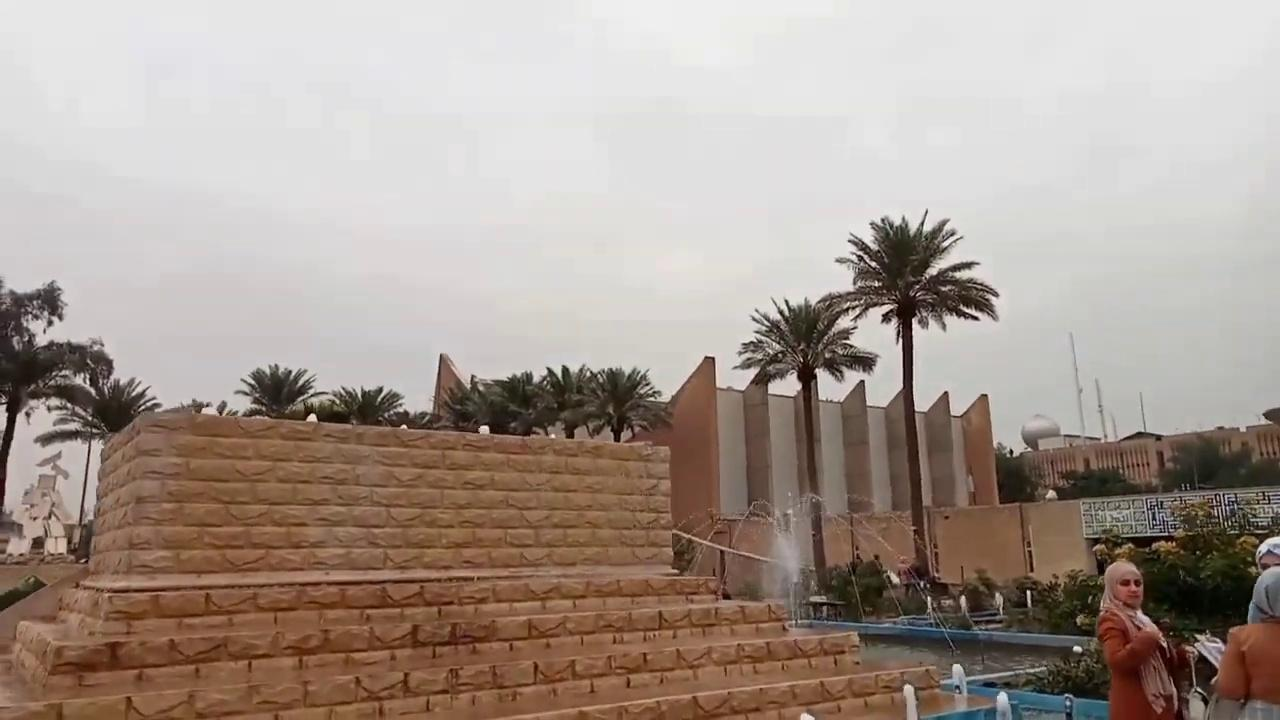fountain: (672, 489, 1109, 717), (901, 659, 1109, 718)
person: (1094, 560, 1198, 719), (1206, 566, 1279, 719), (1246, 535, 1279, 623)
tree: (819, 207, 1000, 578), (732, 293, 879, 593), (0, 274, 111, 515), (33, 370, 160, 552), (437, 362, 672, 440), (569, 365, 670, 441), (233, 362, 322, 418), (485, 369, 554, 435), (539, 363, 593, 438), (438, 373, 503, 431), (329, 384, 405, 425)
